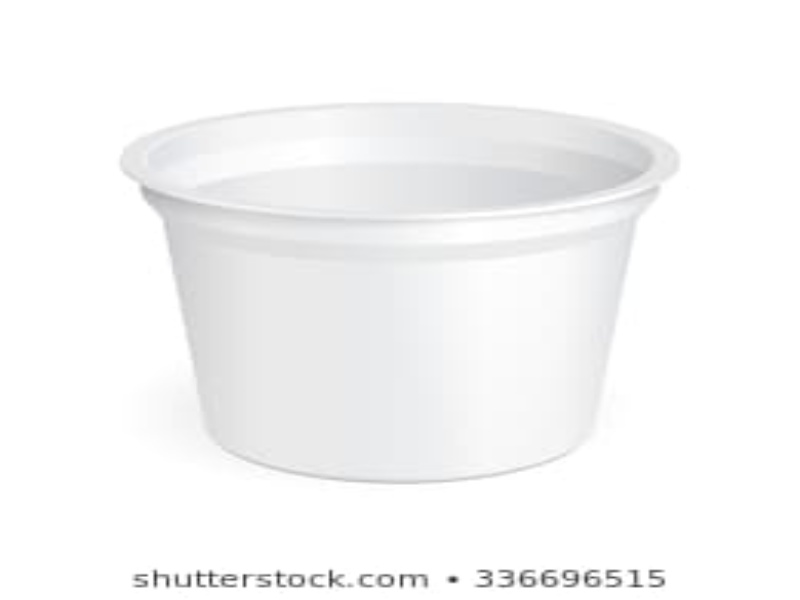yogurt-cup: (109, 94, 680, 483)
